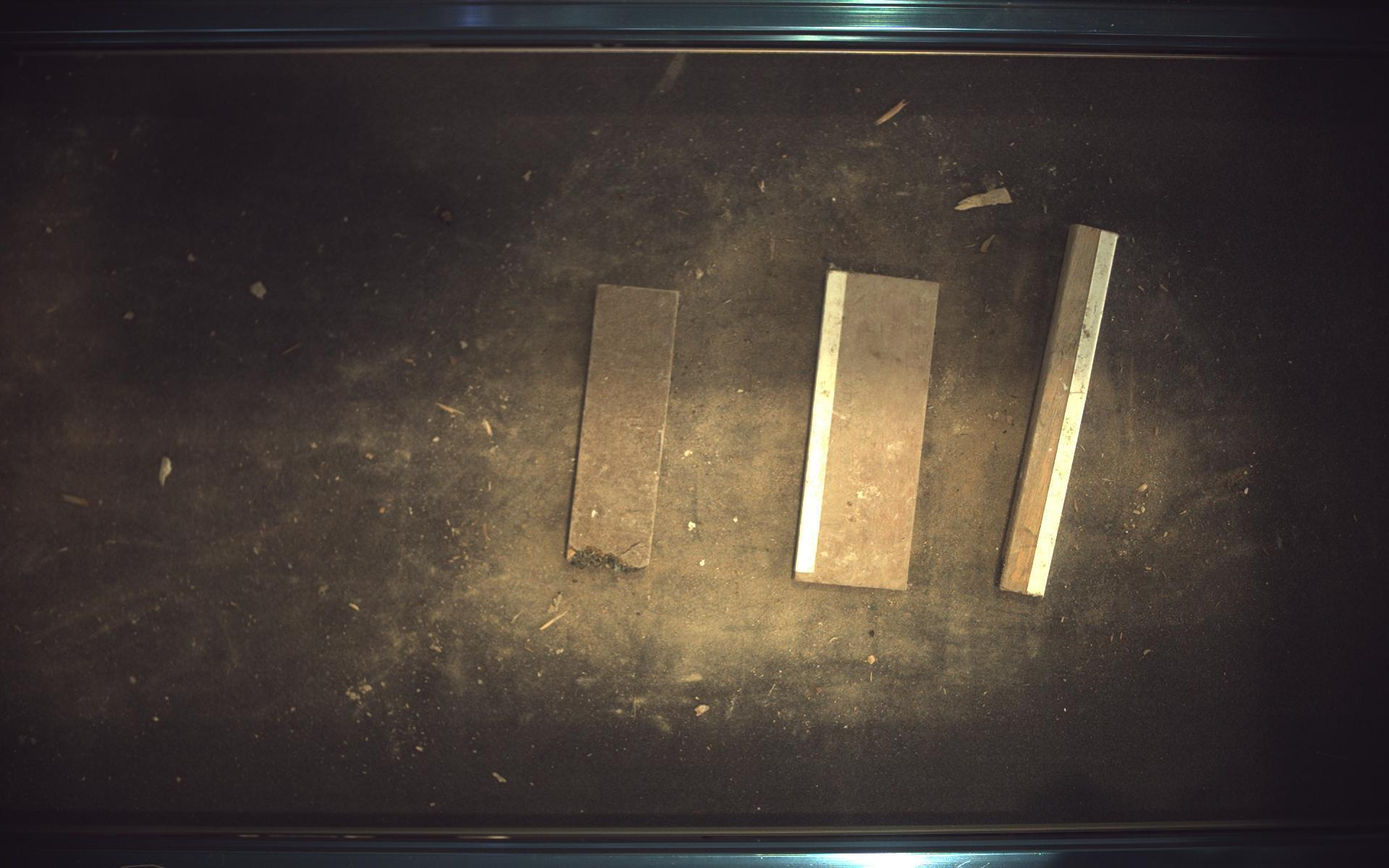wood: (796, 270, 940, 590), (1001, 224, 1121, 597), (567, 284, 680, 571)
